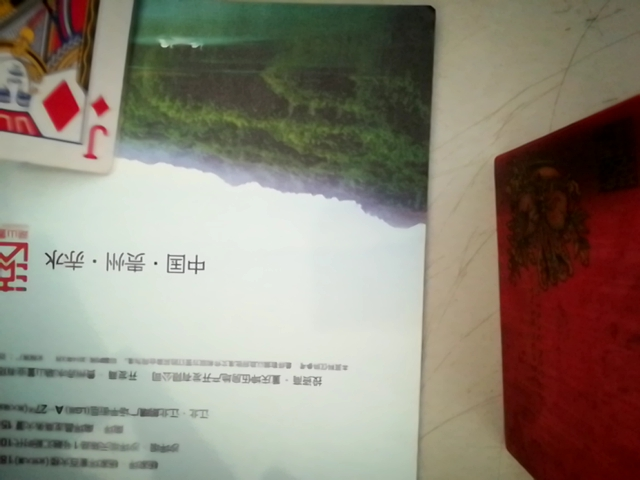fk j: (1, 0, 138, 170)
